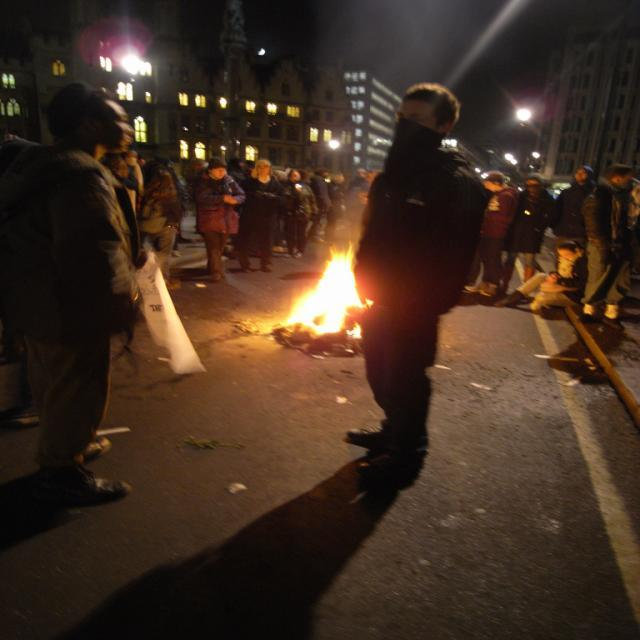Fire: (296, 253, 360, 334)
